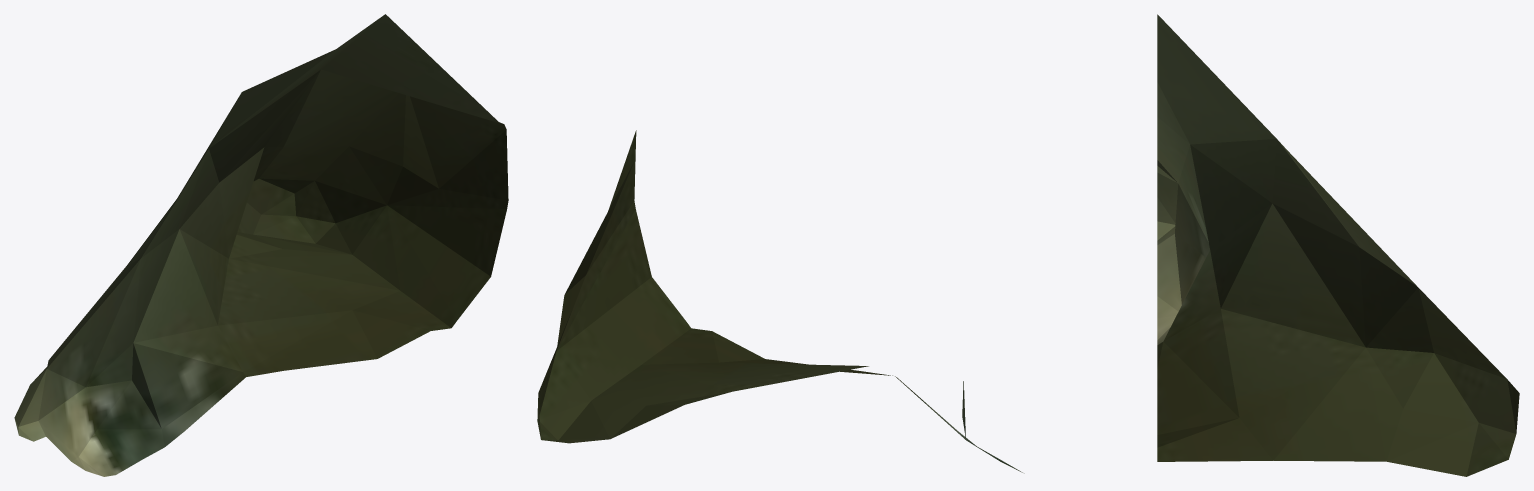
3 views of the same model, side by side, from view 1: azimuth 30°, elevation 25°; view 2: azimuth 150°, elevation 25°; view 3: azimuth 270°, elevation 25° (orthographic). The views are drawn at different scales.
Bounding box in the file's own units: 2.08 × 1.59 × 1.15.
1 material, 1 textured.
